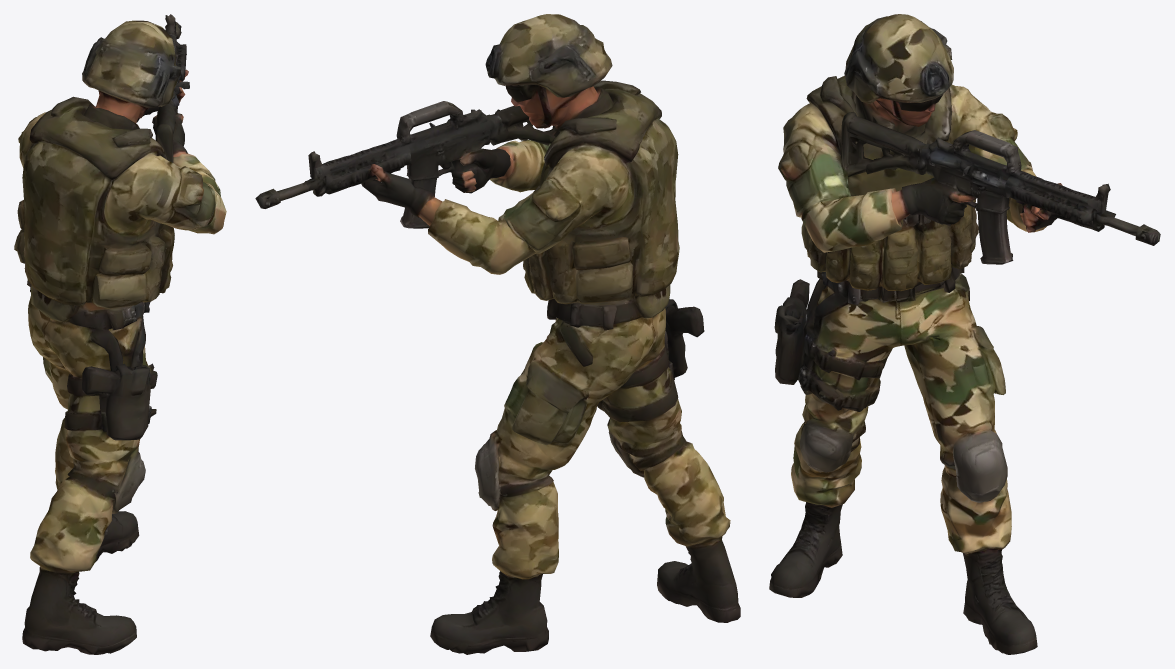
File: enemy_soldier.glb
The picture shows the model from 3 angles, left to right: view 1: azimuth 30°, elevation 25°; view 2: azimuth 150°, elevation 25°; view 3: azimuth 270°, elevation 25°; orthographic projection. The views are drawn at different scales.
Parts seen in each view (by area): view 1: tripo_node_e446a13b-48a1-4180-824c-30d9d9ddbab9; view 2: tripo_node_e446a13b-48a1-4180-824c-30d9d9ddbab9; view 3: tripo_node_e446a13b-48a1-4180-824c-30d9d9ddbab9.
Boxes of the visible parts, x1,y1,x2,y2 form: tripo_node_e446a13b-48a1-4180-824c-30d9d9ddbab9: (14, 14, 226, 654); tripo_node_e446a13b-48a1-4180-824c-30d9d9ddbab9: (255, 14, 740, 654); tripo_node_e446a13b-48a1-4180-824c-30d9d9ddbab9: (769, 14, 1160, 654).
Size of the model in its own units: 0.5693 by 1 by 0.5782.
1 material, 1 textured.
